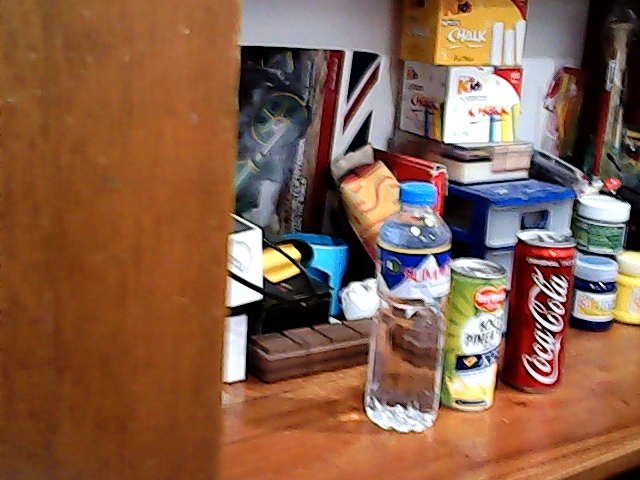Cola: (504, 222, 580, 400)
Pine Juice: (441, 253, 507, 414)
Summit Water: (368, 179, 452, 323)
